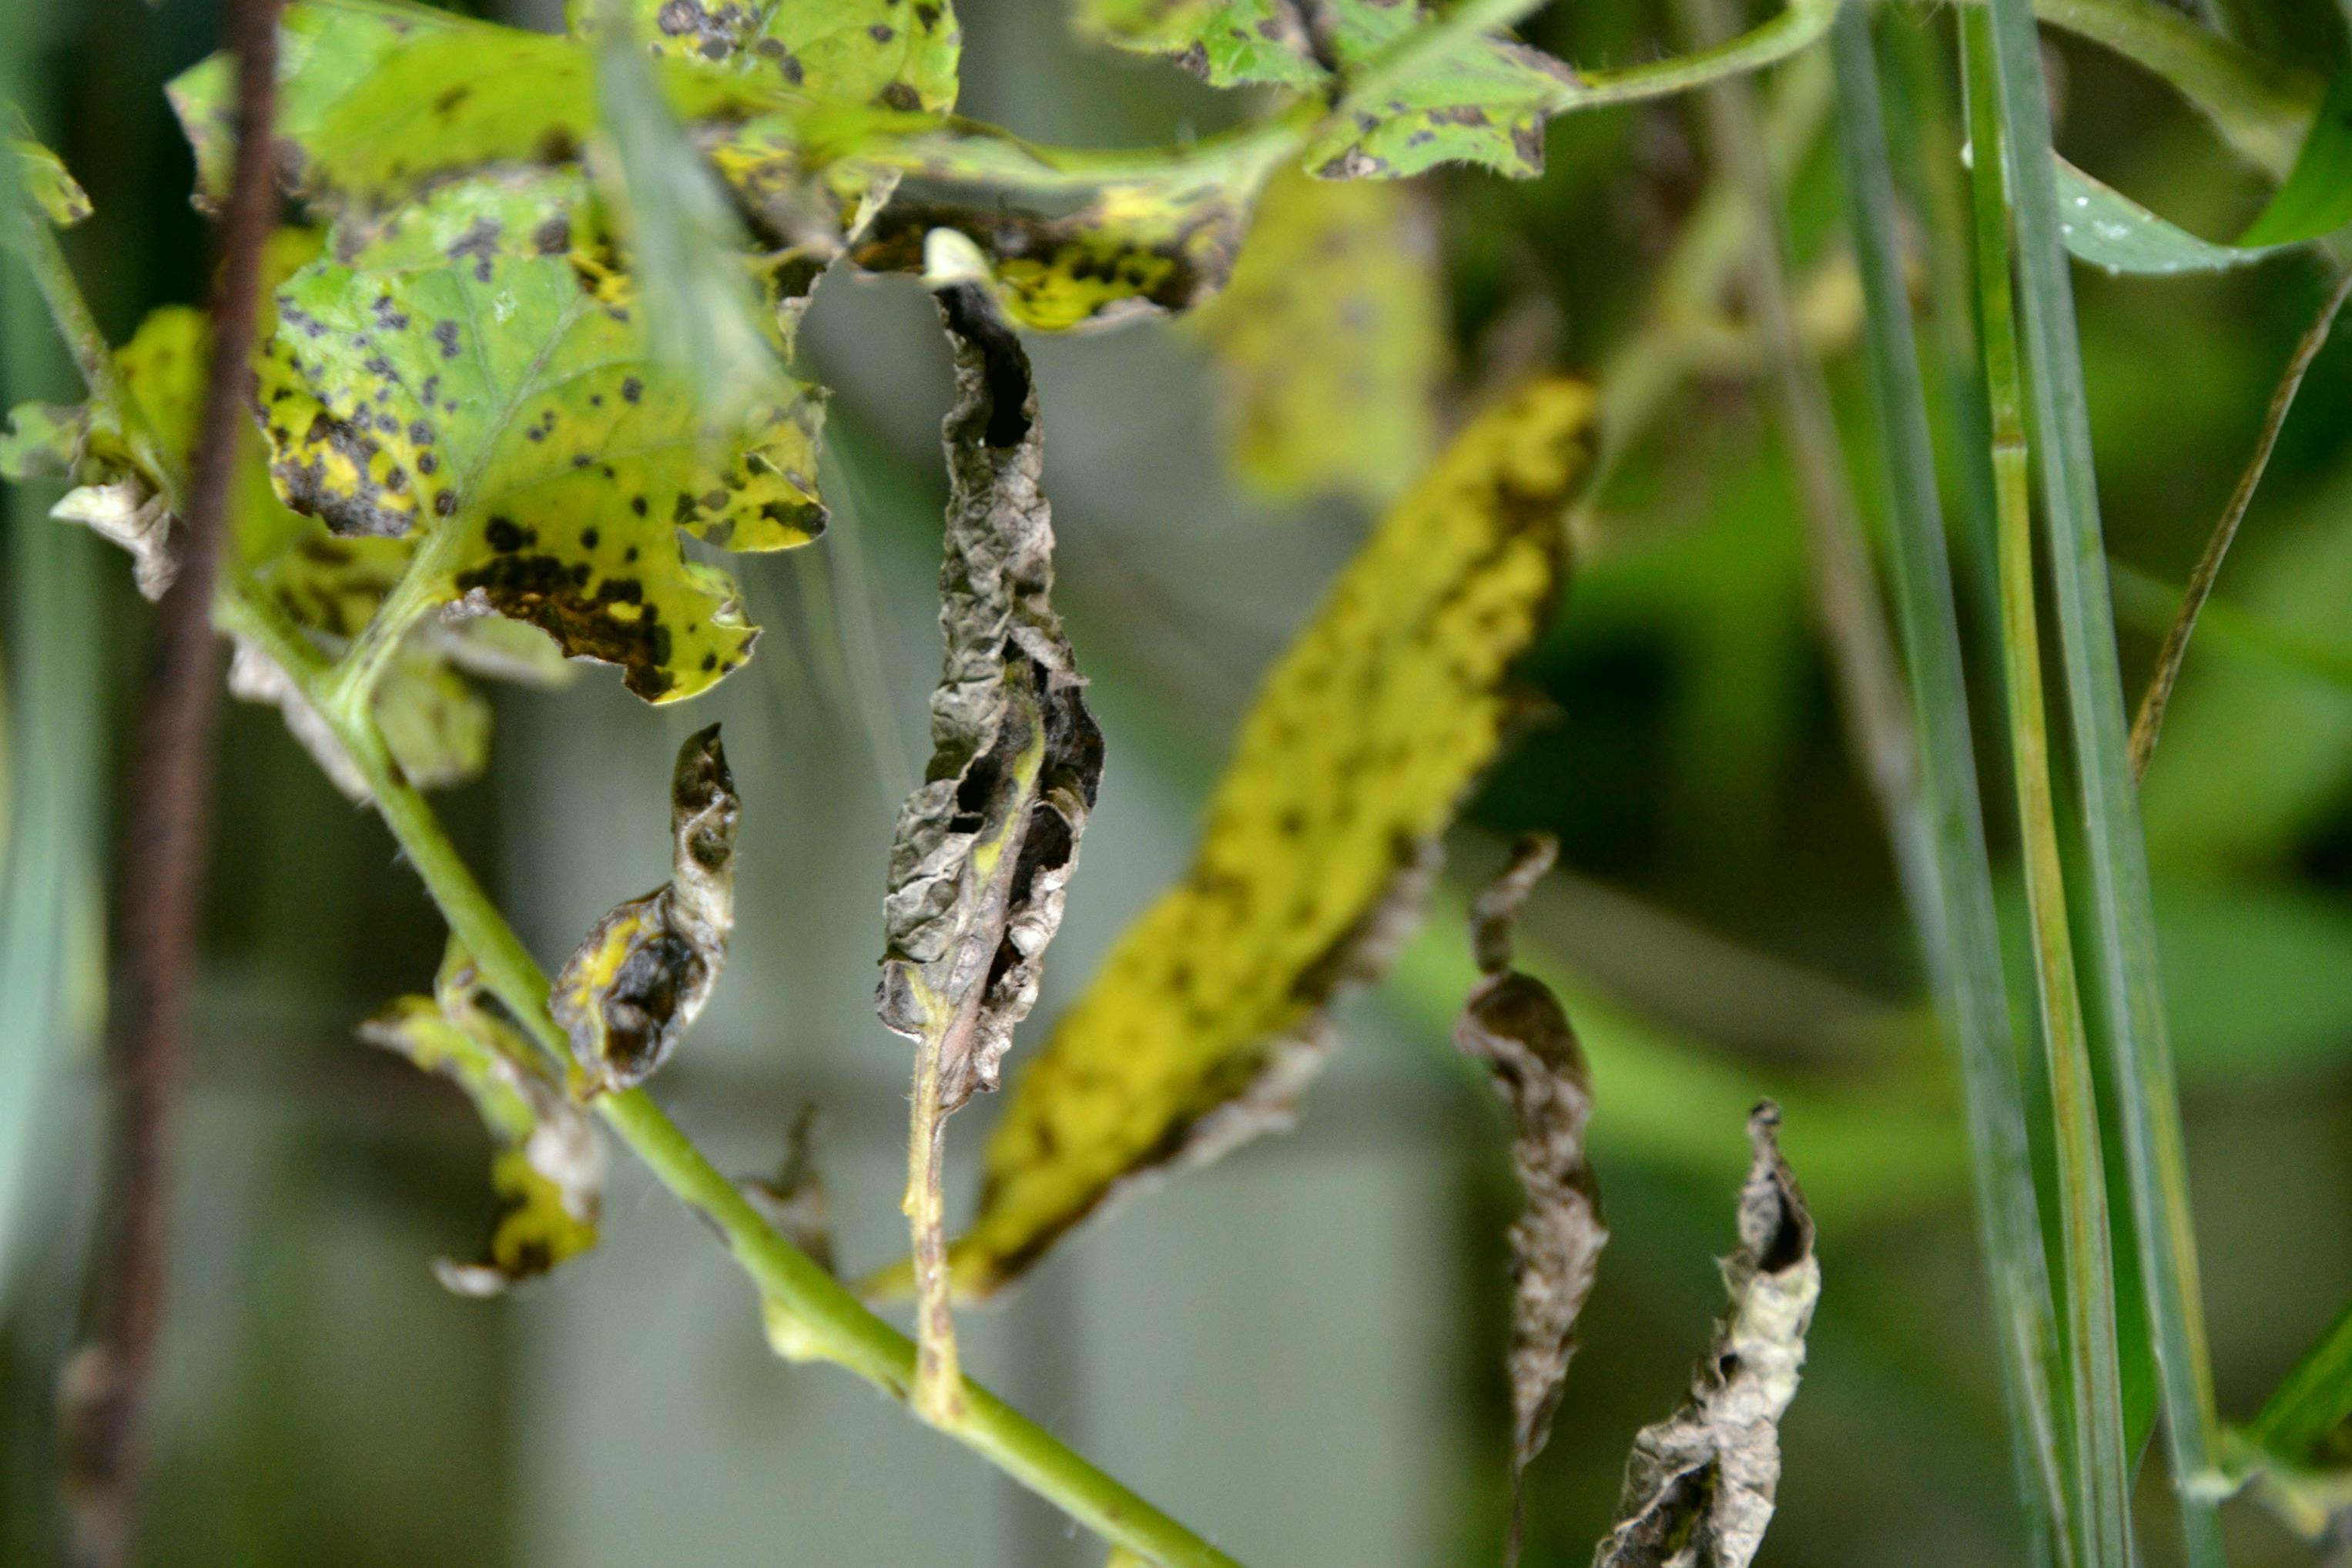Tomato Septoria leaf spot: (969, 404, 1592, 1297), (257, 10, 947, 695)
